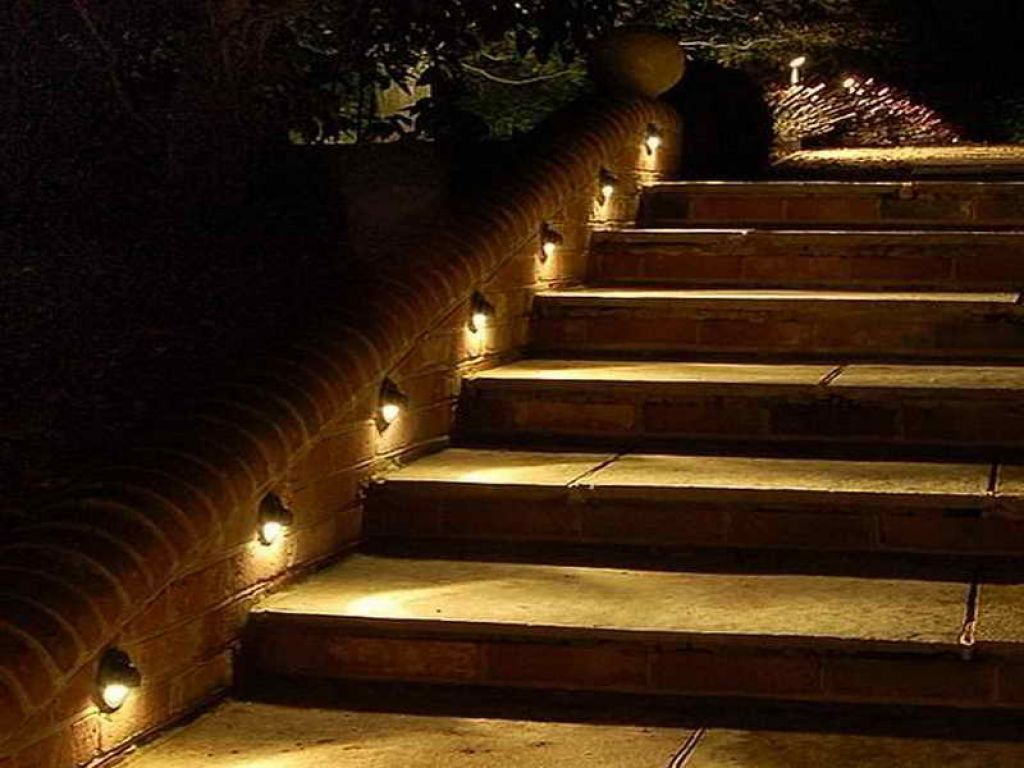upstairs: (539, 282, 1024, 746)
